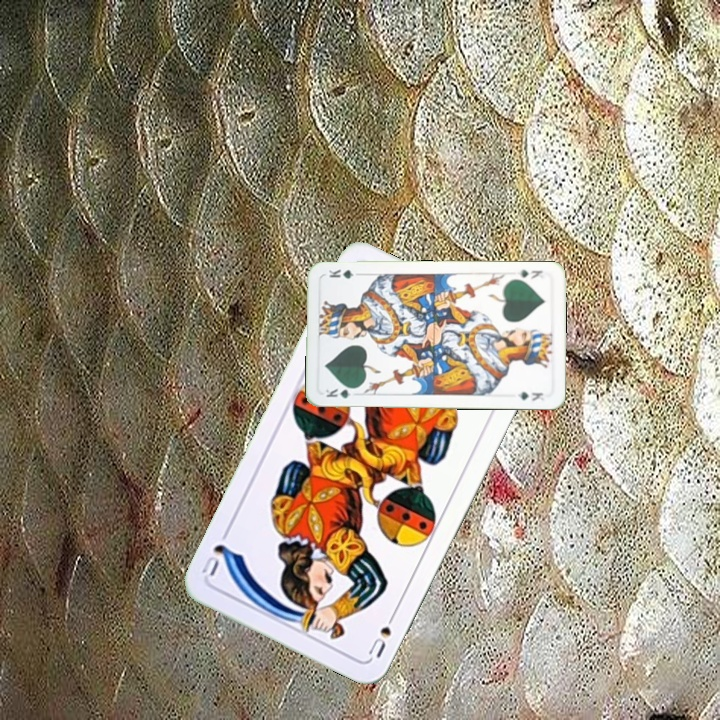GK: (321, 384, 361, 400), (513, 266, 545, 281)
SU: (364, 606, 399, 661)
